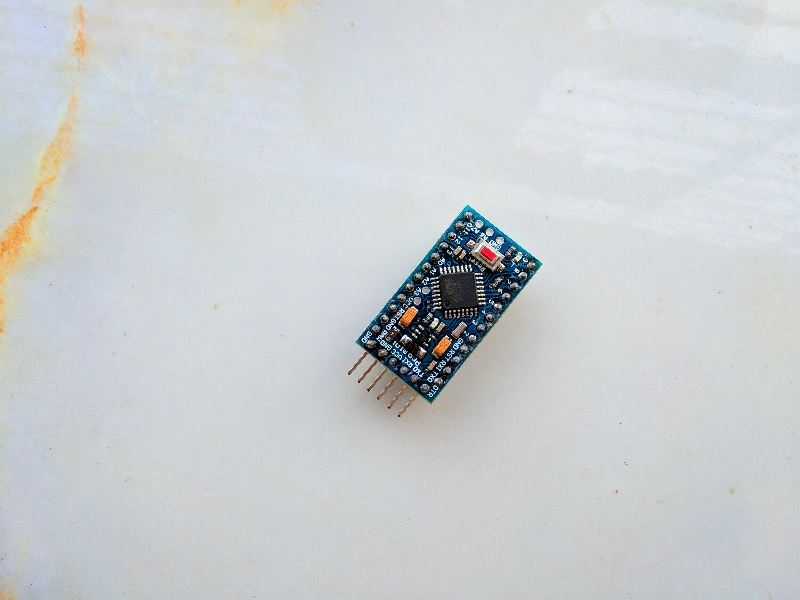Arduino Pro Mini: (352, 200, 545, 406)
